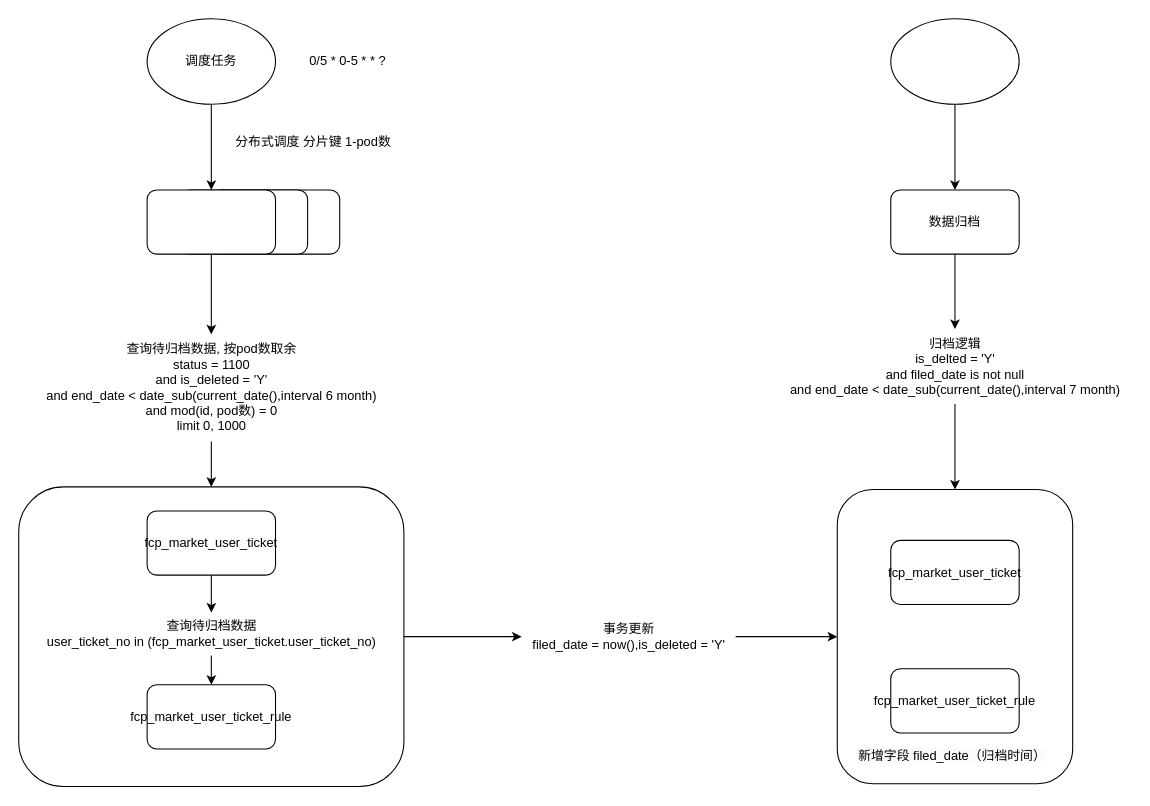
Some shapes in this 1150 by 806 pixel diagram are drawn without their labels. The shapes that lost their labels are listed below. From the top down, each one's box as (x1, y1, x2, y2) in pixels, then its label:
(890, 18, 1019, 104): 绿洲
(146, 189, 276, 254): marketing
